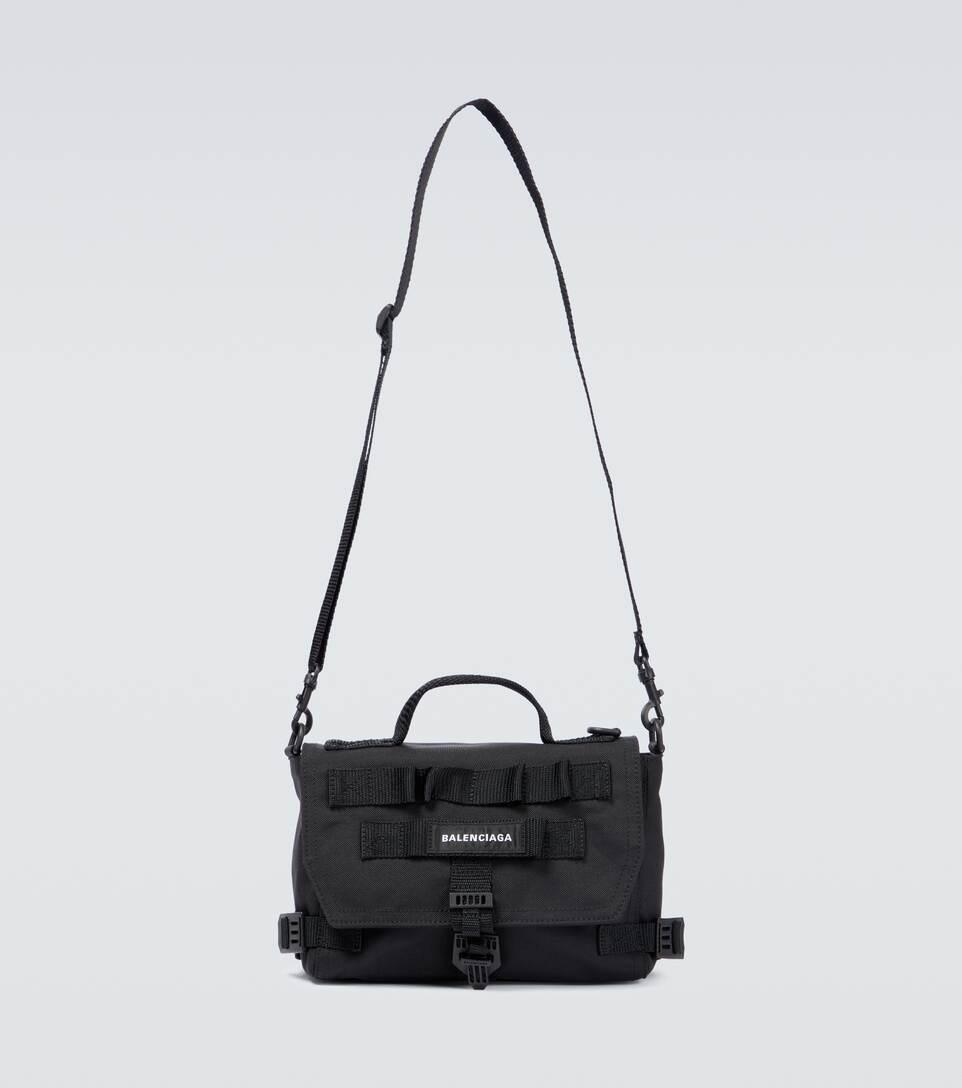BALENCIAGA: (442, 834, 512, 842)
